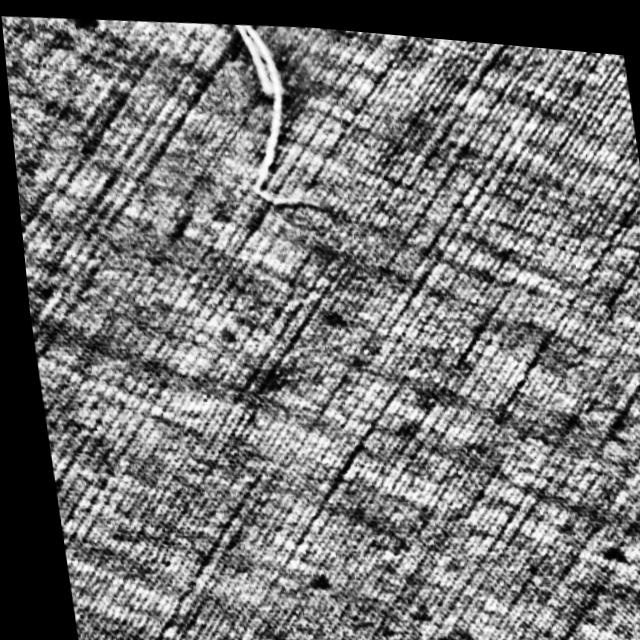Stitch: (193, 11, 340, 222)
